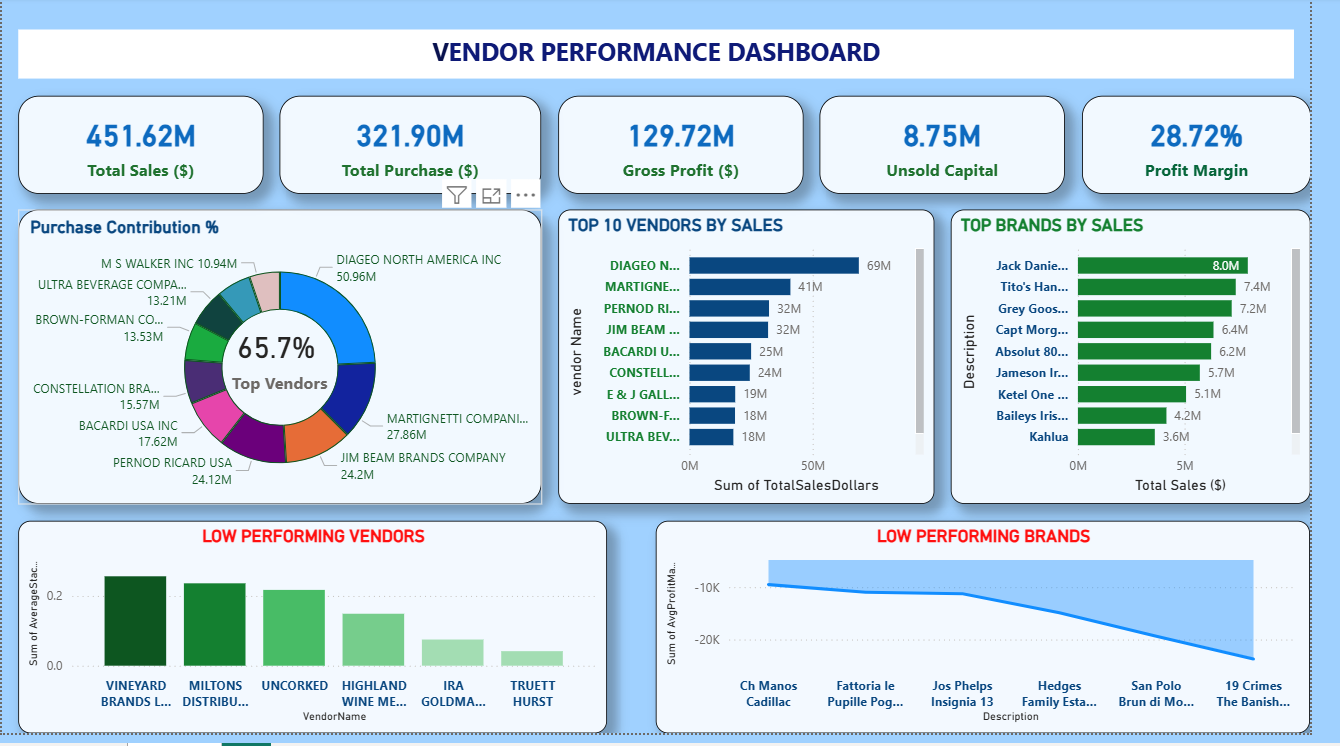

This screenshot's page, from the dashboard's own definition file:
{"tool":"powerbi","page":{"name":"Page 1","canvas":[1280,720],"ordinal":0},"visuals":[{"type":"card","fields":{"Values":["vendor_sales_summary.Total Sales ($)"]},"box":[16,96,240,96],"z":0},{"type":"card","fields":{"Values":["vendor_sales_summary.Total Purchase ($)"]},"box":[272,96,256,96],"z":1000},{"type":"card","fields":{"Values":["vendor_sales_summary.Gross Profit ($)"]},"box":[544,96,240,96],"z":2000},{"type":"card","fields":{"Values":["vendor_sales_summary.Unsold Capital"]},"box":[800,96,240,96],"z":3000},{"type":"card","fields":{"Values":["vendor_sales_summary.Profit Margin"]},"box":[1056,96,224,96],"z":4000},{"type":"textbox","box":[16,32,1248,48],"z":5000},{"type":"donutChart","title":"Purchase Contribution %","fields":{"Y":["Sum(vendor_sales_summary.TotalPurchaseDollars)"],"Category":["vendor_sales_summary.VendorName"]},"box":[16,208,512,288],"z":6000},{"type":"card","fields":{"Values":["top_vendors_contribution.Top Vendor Contribution"]},"box":[208,304,128,96],"z":7000},{"type":"clusteredBarChart","title":"TOP 10 VENDORS BY SALES","fields":{"Category":["top_vendors_contribution.VendorName"],"Y":["Sum(top_vendors_contribution.TotalSalesDollars)"]},"box":[544,208,368,288],"z":8000},{"type":"clusteredBarChart","title":"TOP BRANDS BY SALES","fields":{"Y":["vendor_sales_summary.Total Sales ($)"],"Category":["vendor_sales_summary.Description"]},"box":[928,208,352,288],"z":9000},{"type":"columnChart","title":"LOW PERFORMING VENDORS","fields":{"Category":["LowTurnOverVendors.VendorName"],"Y":["Sum(LowTurnOverVendors.AverageStackTurnOver)"]},"box":[16,512,576,208],"z":10000},{"type":"areaChart","title":"LOW PERFORMING BRANDS","fields":{"Category":["BrandPerformance.Description"],"Y":["Sum(BrandPerformance.AvgProfitMargin)"]},"box":[640,512,640,208],"z":11000}]}

Visuals, with their boxes in screenshot pixels (x1, y1, x2, y2), scaled from the page's 1280x720 canvas onto the 1340x746 screenshot:
card - vendor_sales_summary.Total Sales ($): 17,99,268,199
card - vendor_sales_summary.Total Purchase ($): 285,99,553,199
card - vendor_sales_summary.Gross Profit ($): 570,99,821,199
card - vendor_sales_summary.Unsold Capital: 838,99,1089,199
card - vendor_sales_summary.Profit Margin: 1106,99,1339,199
textbox: 17,33,1323,83
"Purchase Contribution %" donutChart: 17,216,553,514
card - top_vendors_contribution.Top Vendor Contribution: 218,315,352,414
"TOP 10 VENDORS BY SALES" clusteredBarChart: 570,216,955,514
"TOP BRANDS BY SALES" clusteredBarChart: 972,216,1339,514
"LOW PERFORMING VENDORS" columnChart: 17,530,620,745
"LOW PERFORMING BRANDS" areaChart: 670,530,1339,745
